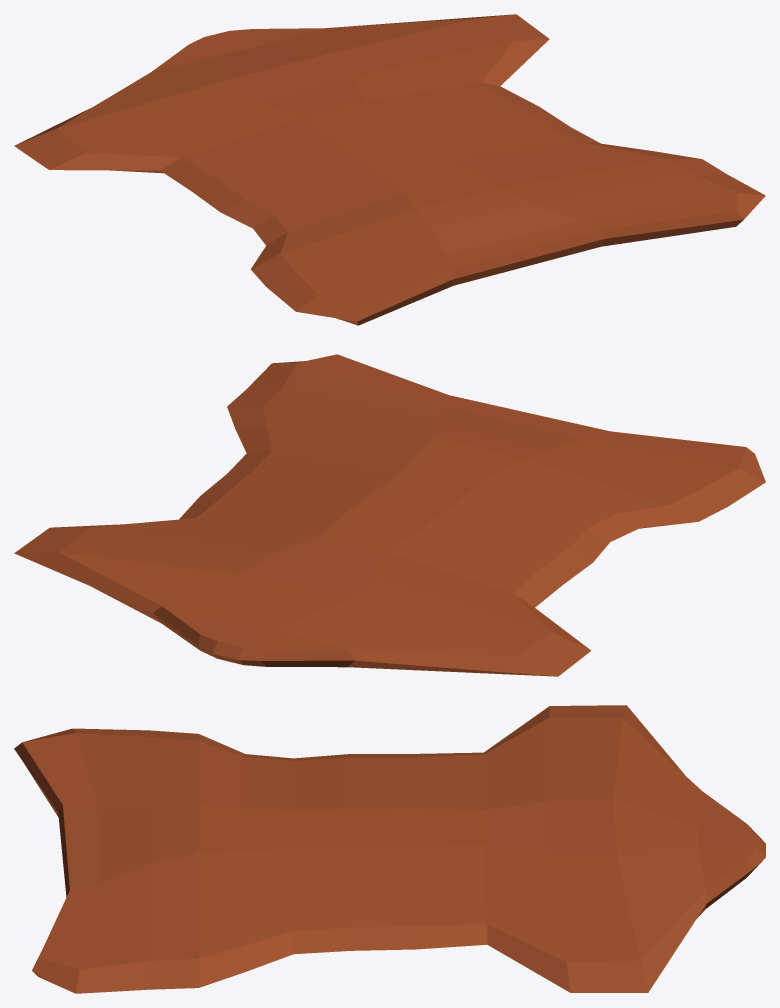
File: CouroPequeno.fbx
3 renders of one model, top to bottom at view 1: azimuth 30°, elevation 25°; view 2: azimuth 150°, elevation 25°; view 3: azimuth 270°, elevation 25°, orthographic. The views are drawn at different scales.
Parts seen in each view (by area): view 1: CouroPequeno; view 2: CouroPequeno; view 3: CouroPequeno.
Part boxes in pixels (x1=…): CouroPequeno: x1=14, y1=14, x2=765, y2=325; CouroPequeno: x1=14, y1=354, x2=765, y2=676; CouroPequeno: x1=14, y1=705, x2=765, y2=993.
Bounding box in the file's own units: 117 × 6.41 × 129.
